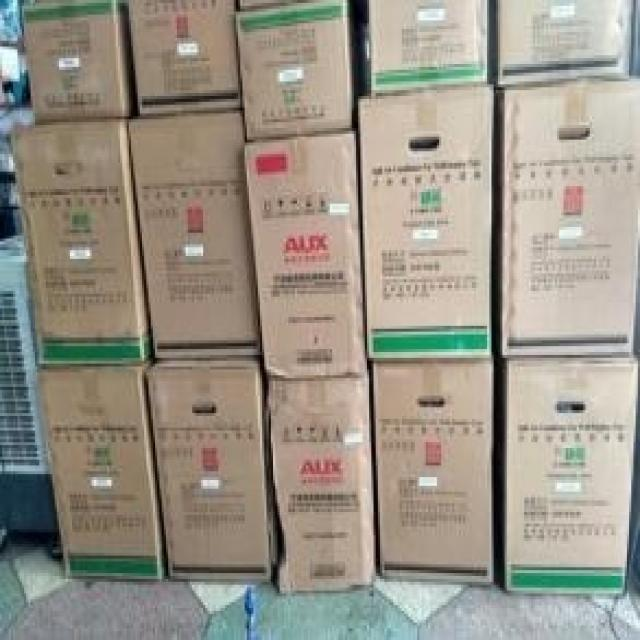box: (497, 76, 638, 357), (356, 83, 492, 359), (10, 115, 153, 364), (128, 107, 264, 357), (500, 355, 638, 595), (242, 127, 366, 377), (35, 354, 169, 583), (147, 353, 277, 581), (373, 356, 496, 585), (266, 364, 375, 591), (236, 1, 354, 141), (19, 1, 139, 123), (127, 1, 240, 114), (488, 2, 636, 87), (369, 2, 489, 98), (235, 1, 294, 6)
